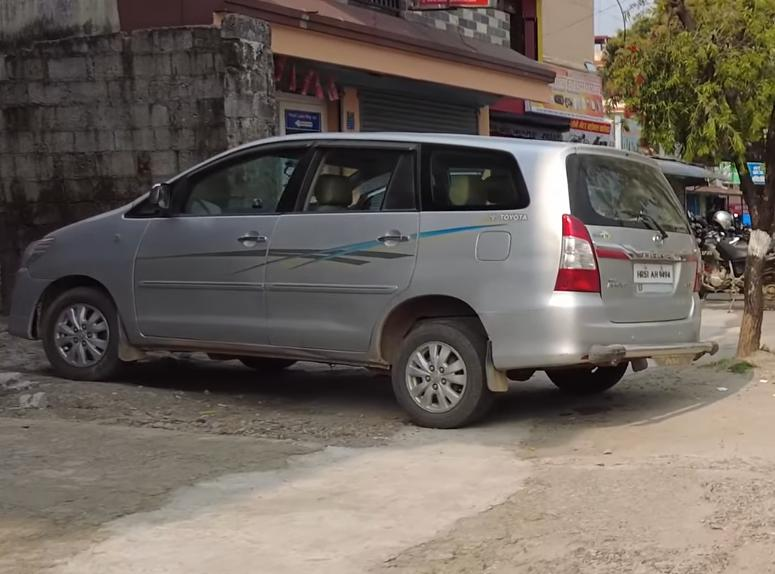SUV: (14, 120, 716, 436)
